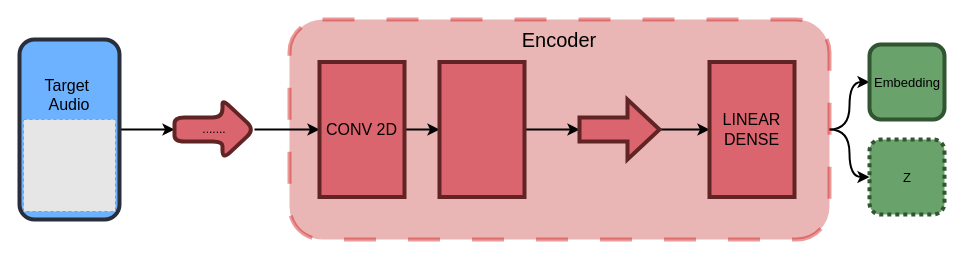
The diagram is 969 pixels wide and 258 high, and some of its shapes have lost their labels. Grey dashed boxes stand in for pictures. Here are the shapes that lost their labels. From the top down, the box of each, then its label:
(437, 60, 526, 198): NORMALIZE
(577, 97, 661, 161): X3
